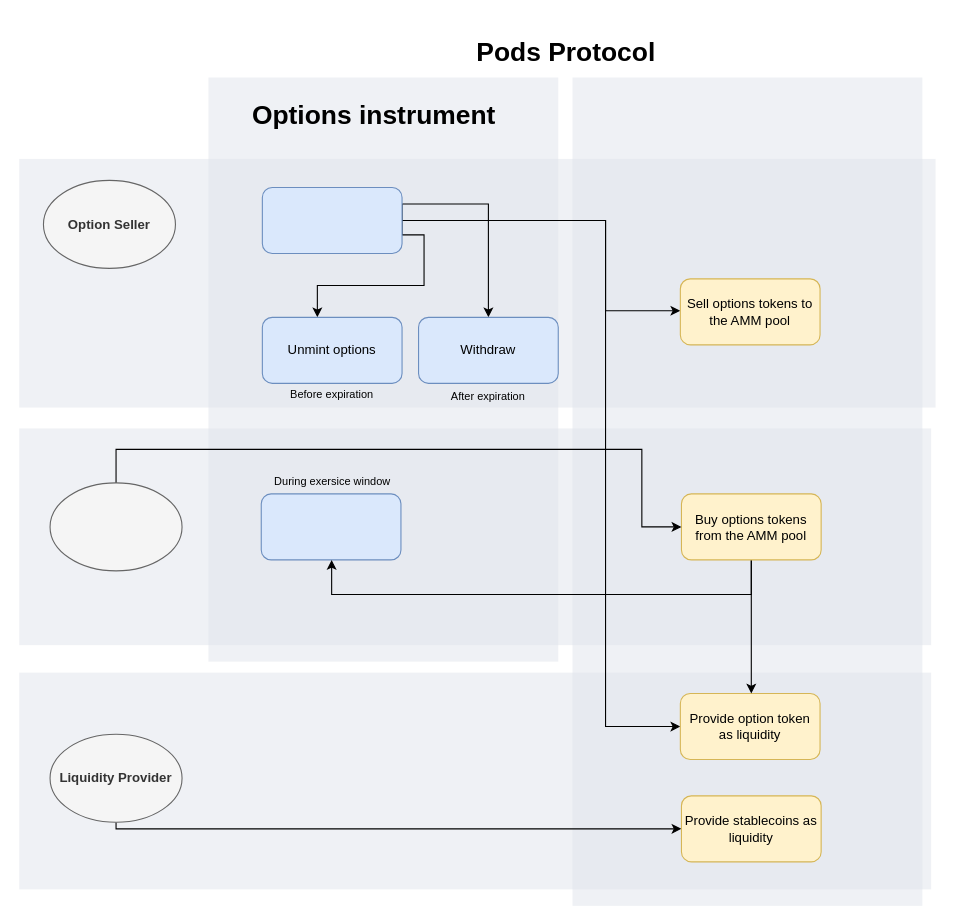
Image size: 954x924. Some labels were removed from this diagram. The shapes that lost their labels are listed below. From the top down, each one's box as (x1, y1, x2, y2) in pixels, then its label:
(261, 186, 402, 254): Mint options
(572, 77, 922, 905): Options AMM
(49, 482, 182, 571): Option Buyer
(260, 493, 401, 560): Exercise options
